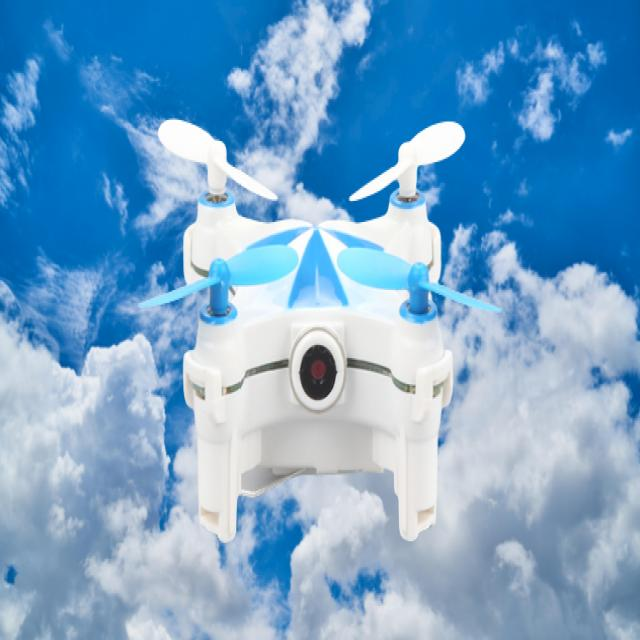drones: (154, 88, 506, 558)
